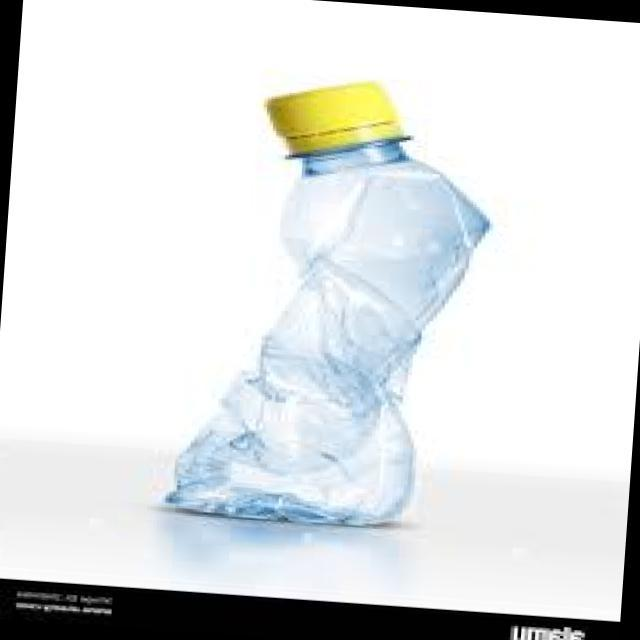defected: (138, 48, 520, 551)
